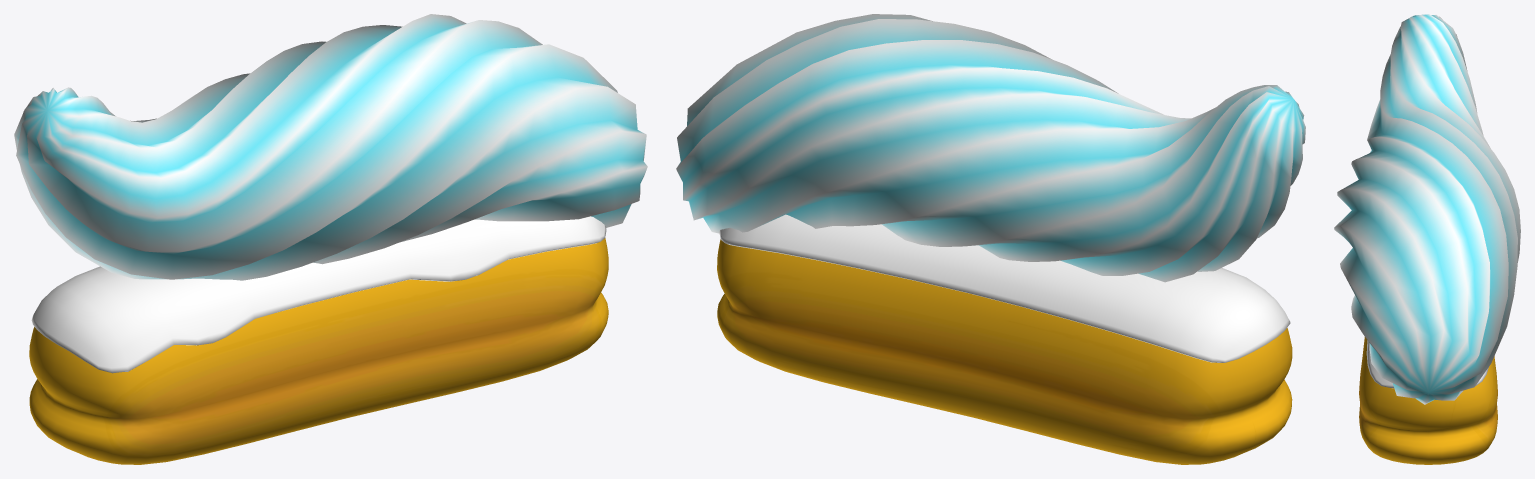
File: barDecorItemsUp2_Demo.fbx
3 views of the same model, side by side, from view 1: azimuth 30°, elevation 25°; view 2: azimuth 150°, elevation 25°; view 3: azimuth 270°, elevation 25° (orthographic). The views are drawn at different scales.
Visible parts, largest first — view 1: barDecorItemsUp2_Demo; view 2: barDecorItemsUp2_Demo; view 3: barDecorItemsUp2_Demo.
Boxes of the visible parts, bbox=[...] form: barDecorItemsUp2_Demo: bbox=[14, 14, 647, 464]; barDecorItemsUp2_Demo: bbox=[676, 14, 1305, 464]; barDecorItemsUp2_Demo: bbox=[1334, 14, 1520, 464].
Size of the model in its own units: 0.8033 by 0.4746 by 0.2885.
Materials: 3 (2 with a texture image).
